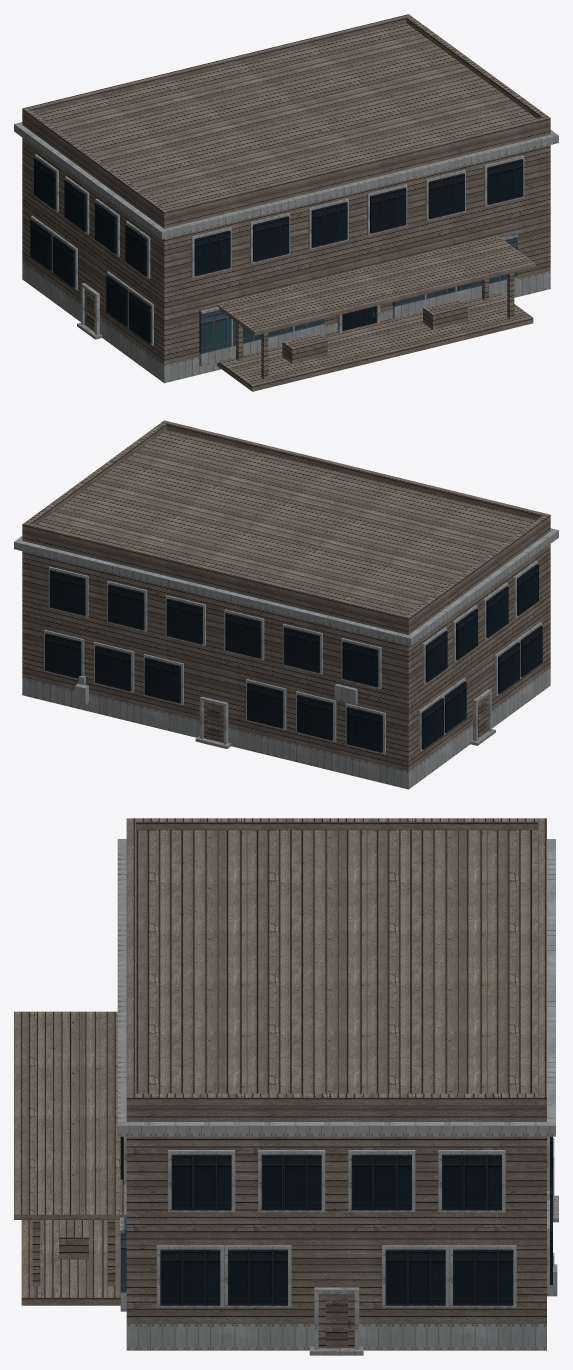
File: lakeshore-grill_lod0.gltf
The picture shows the model from 3 angles, top to bottom: view 1: azimuth 30°, elevation 25°; view 2: azimuth 150°, elevation 25°; view 3: azimuth 270°, elevation 25°; orthographic projection. The views are drawn at different scales.
Visible parts, largest first — view 1: lakeshore-grill_upper, lakeshore-grill_fen_07-glass-curtain-blue_2_t, lakeshore-grill__pergola_top, lakeshore-grill__deck, lakeshore-grill_fen_14-steel-panel_0, lakeshore-grill__cornice, lakeshore-grill_base, lakeshore-grill__parapet_front, lakeshore-grill__parapet_back, lakeshore-grill_fen_07-glass-curtain-blue_1, lakeshore-grill__parapet_left, lakeshore-grill__parapet_right (+2 smaller); view 2: lakeshore-grill_upper, lakeshore-grill_fen_07-glass-curtain-blue_2_t, lakeshore-grill_base, lakeshore-grill_fen_14-steel-panel_0, lakeshore-grill__cornice, lakeshore-grill__parapet_back, lakeshore-grill__parapet_front, lakeshore-grill__parapet_left, lakeshore-grill__parapet_right, lakeshore-grill_fen_18-timber-siding_5, lakeshore-grill_fen_18-timber-siding_6_t; view 3: lakeshore-grill_upper, lakeshore-grill_fen_07-glass-curtain-blue_2_t, lakeshore-grill__pergola_top, lakeshore-grill__cornice, lakeshore-grill_base, lakeshore-grill_fen_14-steel-panel_0, lakeshore-grill__deck, lakeshore-grill__parapet_left, lakeshore-grill__parapet_right, lakeshore-grill__parapet_front, lakeshore-grill__parapet_back, lakeshore-grill_fen_18-timber-siding_5 (+2 smaller).
Boxes of the visible parts, bbox=[...] form: lakeshore-grill_upper: bbox=[22, 23, 550, 364]; lakeshore-grill_fen_07-glass-curtain-blue_2_t: bbox=[30, 157, 523, 343]; lakeshore-grill__pergola_top: bbox=[217, 235, 535, 335]; lakeshore-grill__deck: bbox=[217, 293, 533, 391]; lakeshore-grill_fen_14-steel-panel_0: bbox=[31, 154, 524, 366]; lakeshore-grill__cornice: bbox=[14, 122, 558, 239]; lakeshore-grill_base: bbox=[22, 261, 550, 383]; lakeshore-grill__parapet_front: bbox=[161, 116, 550, 217]; lakeshore-grill__parapet_back: bbox=[22, 14, 411, 115]; lakeshore-grill_fen_07-glass-curtain-blue_1: bbox=[199, 233, 517, 353]; lakeshore-grill__parapet_left: bbox=[25, 109, 165, 215]; lakeshore-grill__parapet_right: bbox=[406, 16, 547, 118]; lakeshore-grill_upper: bbox=[22, 429, 550, 770]; lakeshore-grill_fen_07-glass-curtain-blue_2_t: bbox=[45, 564, 542, 752]; lakeshore-grill_base: bbox=[22, 667, 550, 789]; lakeshore-grill_fen_14-steel-panel_0: bbox=[44, 560, 541, 754]; lakeshore-grill__cornice: bbox=[14, 528, 558, 645]; lakeshore-grill__parapet_back: bbox=[22, 522, 411, 623]; lakeshore-grill__parapet_front: bbox=[161, 420, 550, 521]; lakeshore-grill__parapet_left: bbox=[407, 515, 547, 621]; lakeshore-grill__parapet_right: bbox=[26, 422, 166, 524]; lakeshore-grill_fen_18-timber-siding_5: bbox=[203, 695, 488, 742]; lakeshore-grill_fen_18-timber-siding_6_t: bbox=[207, 701, 486, 740]; lakeshore-grill_upper: bbox=[126, 830, 546, 1323]; lakeshore-grill_fen_07-glass-curtain-blue_2_t: bbox=[120, 1136, 552, 1305]; lakeshore-grill__pergola_top: bbox=[14, 1011, 126, 1219]; lakeshore-grill__cornice: bbox=[117, 839, 555, 1136]; lakeshore-grill_base: bbox=[126, 1323, 546, 1350]; lakeshore-grill_fen_14-steel-panel_0: bbox=[120, 1136, 557, 1349]; lakeshore-grill__deck: bbox=[21, 1220, 120, 1305]; lakeshore-grill__parapet_left: bbox=[135, 818, 537, 830]; lakeshore-grill__parapet_right: bbox=[135, 1093, 537, 1105]; lakeshore-grill__parapet_front: bbox=[126, 818, 135, 1105]; lakeshore-grill__parapet_back: bbox=[538, 818, 546, 1105]; lakeshore-grill_fen_18-timber-siding_5: bbox=[318, 1294, 354, 1348].
Size of the model in its own units: 22.8 by 9.3 by 18.15.
